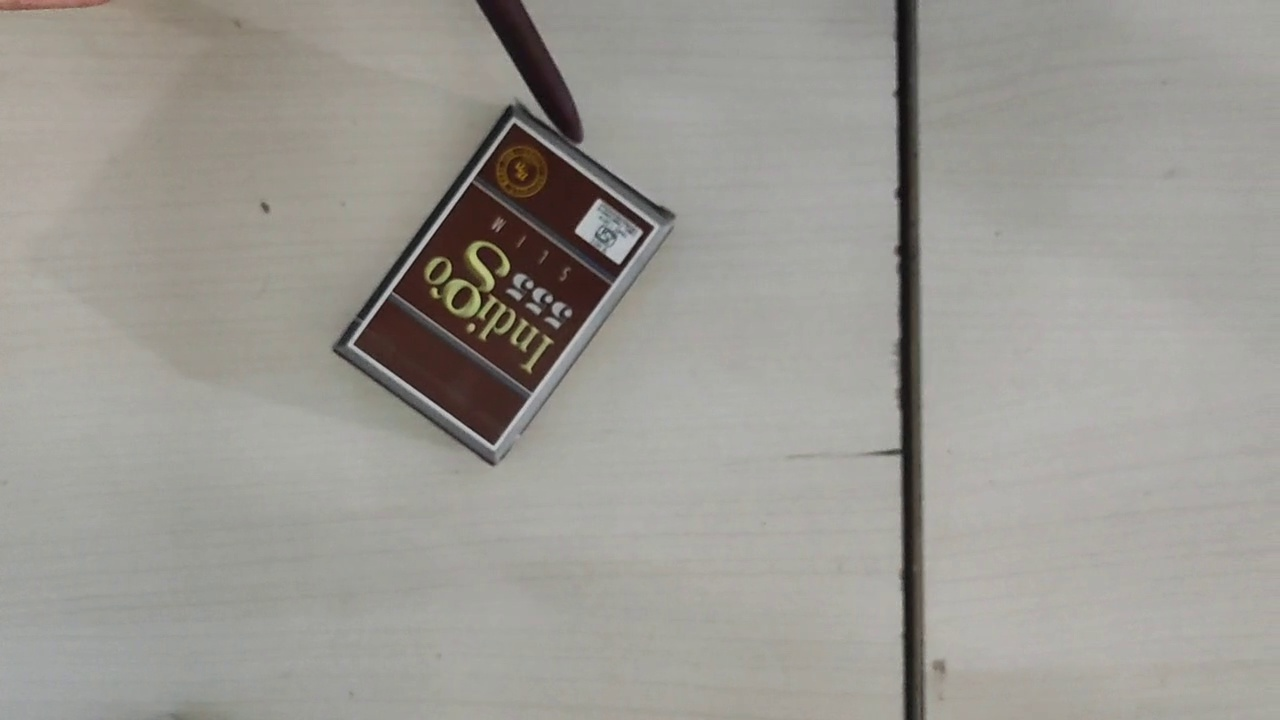BEX: (350, 113, 656, 450)
